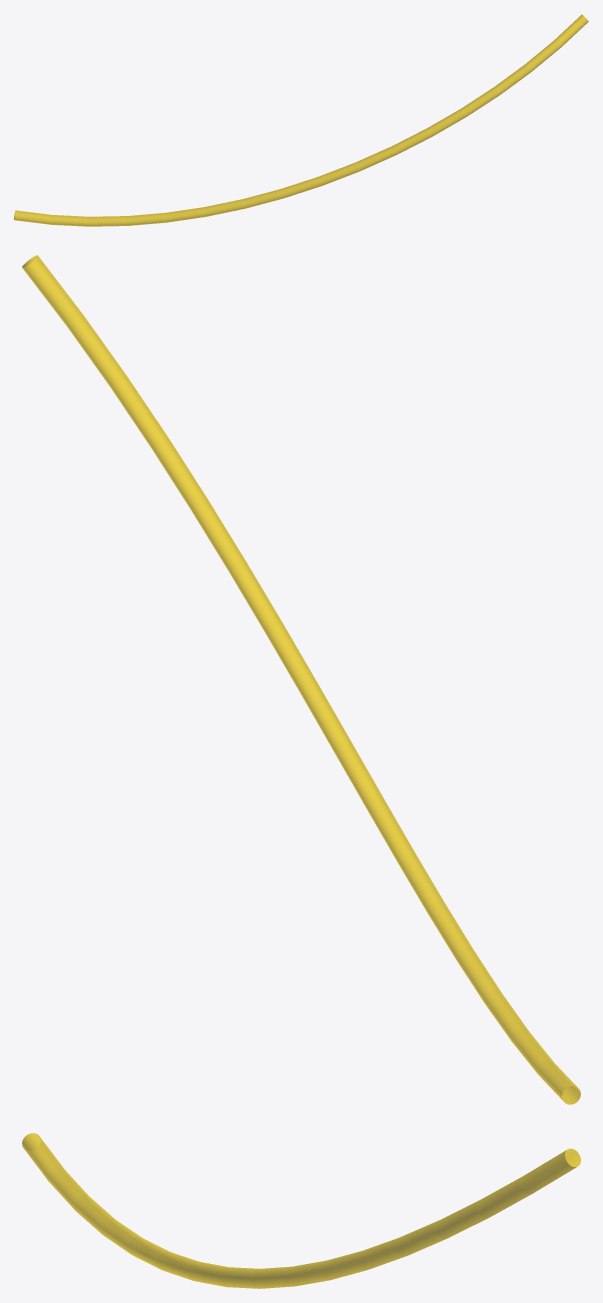
Rendered from Event_84804159_track_45.fbx.
3 renders of one model, top to bottom at view 1: azimuth 30°, elevation 25°; view 2: azimuth 150°, elevation 25°; view 3: azimuth 330°, elevation 25°, orthographic. The views are drawn at different scales.
Parts seen in each view (by area): view 1: Model; view 2: Model; view 3: Model.
Part boxes in pixels (<box>): Model: <box>14,14,588,226</box>; Model: <box>22,255,580,1104</box>; Model: <box>22,1133,580,1288</box>.
Bounding box in the file's own units: 1.96 × 0.9426 × 1.23.
